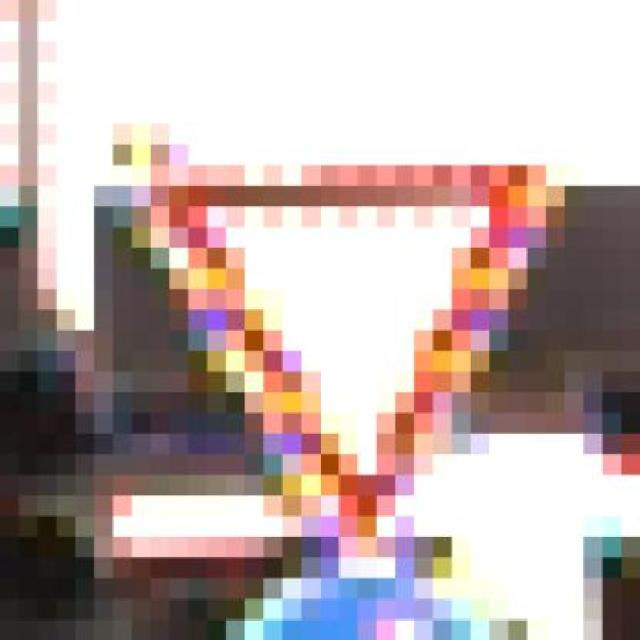Give Way: (112, 144, 565, 578)
